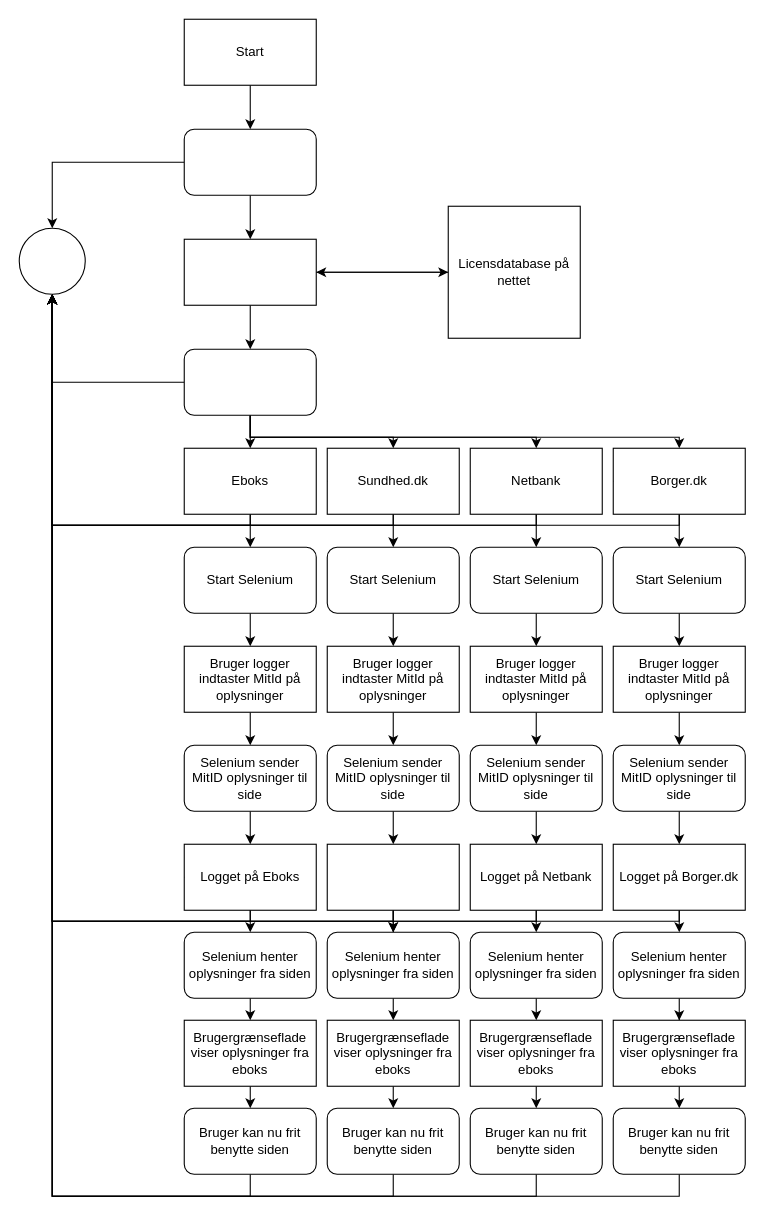
Some shapes in this 765 by 1224 pixel diagram are drawn without their labels. The shapes that lost their labels are listed below. From the top down, each one's centre as x and y in pixels, then its label:
At point (249, 161): "Vent på Licenskode".
At point (51, 260): "Exit".
At point (249, 271): "Valider Licenskode".
At point (249, 381): "Hovedmenu".
At point (392, 876): "Logget på Sundhed.dk".
